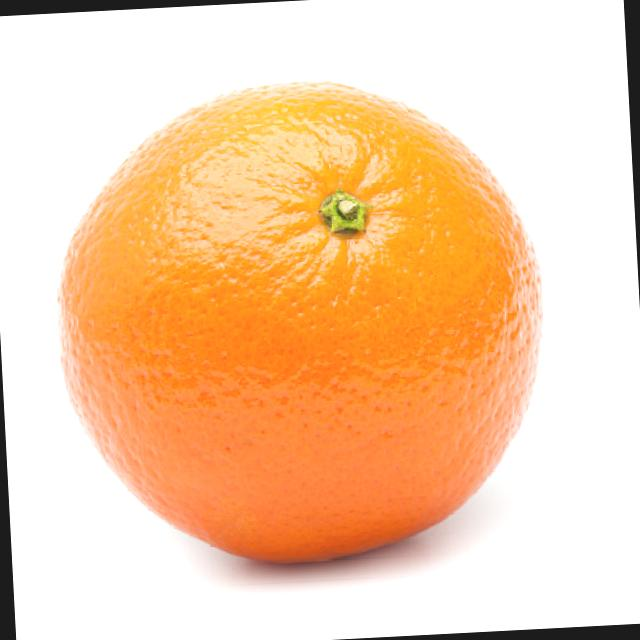orange: (46, 66, 583, 598)
